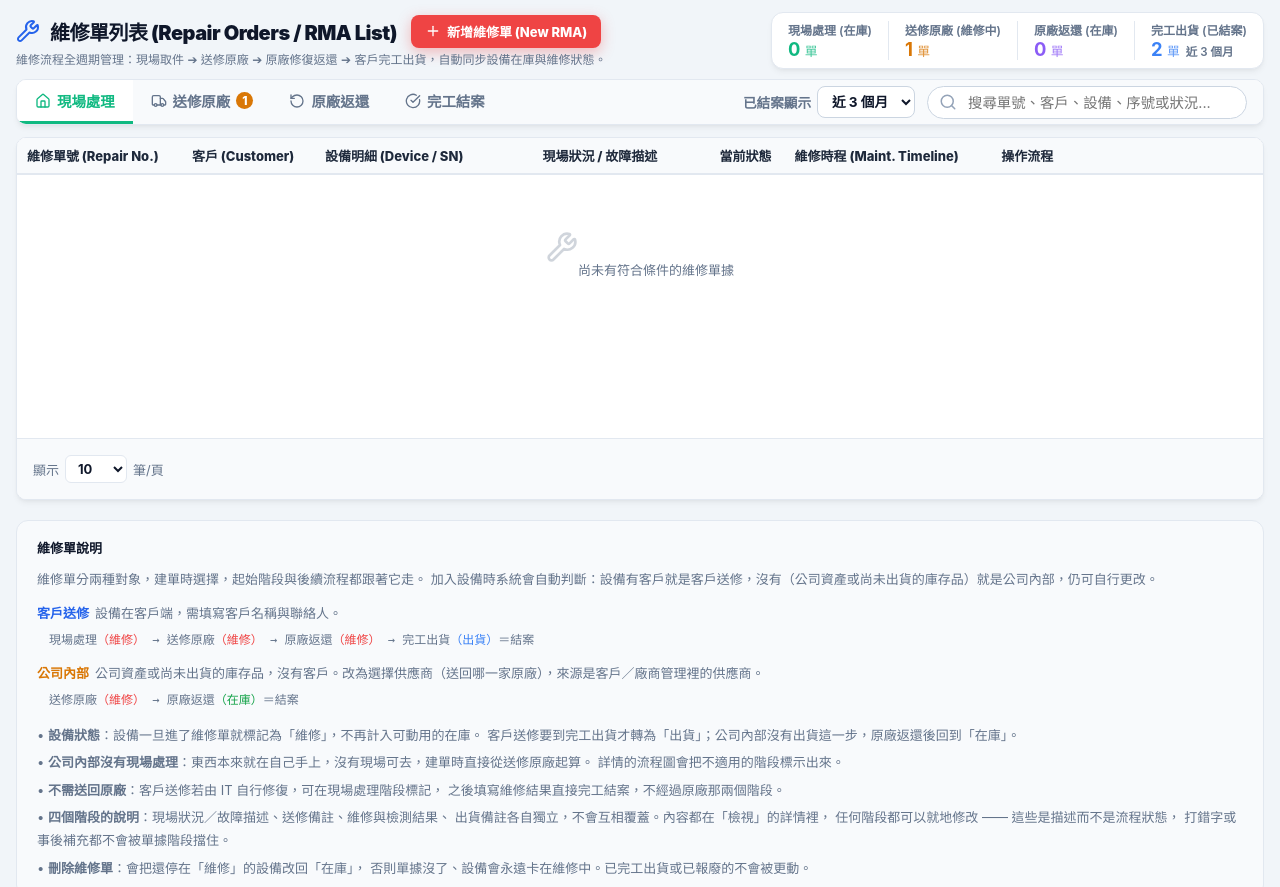
Test: 維修單列表 › 搜尋查全部歷史，不受期間限制
Expected: the text with test id "stat-1" reads "1", [905, 38, 913, 60]
Type "BC0099" into the field with placeholder "搜尋單號、客戶、設備、序號或狀況..." at [1087, 102], box [927, 86, 1247, 118]
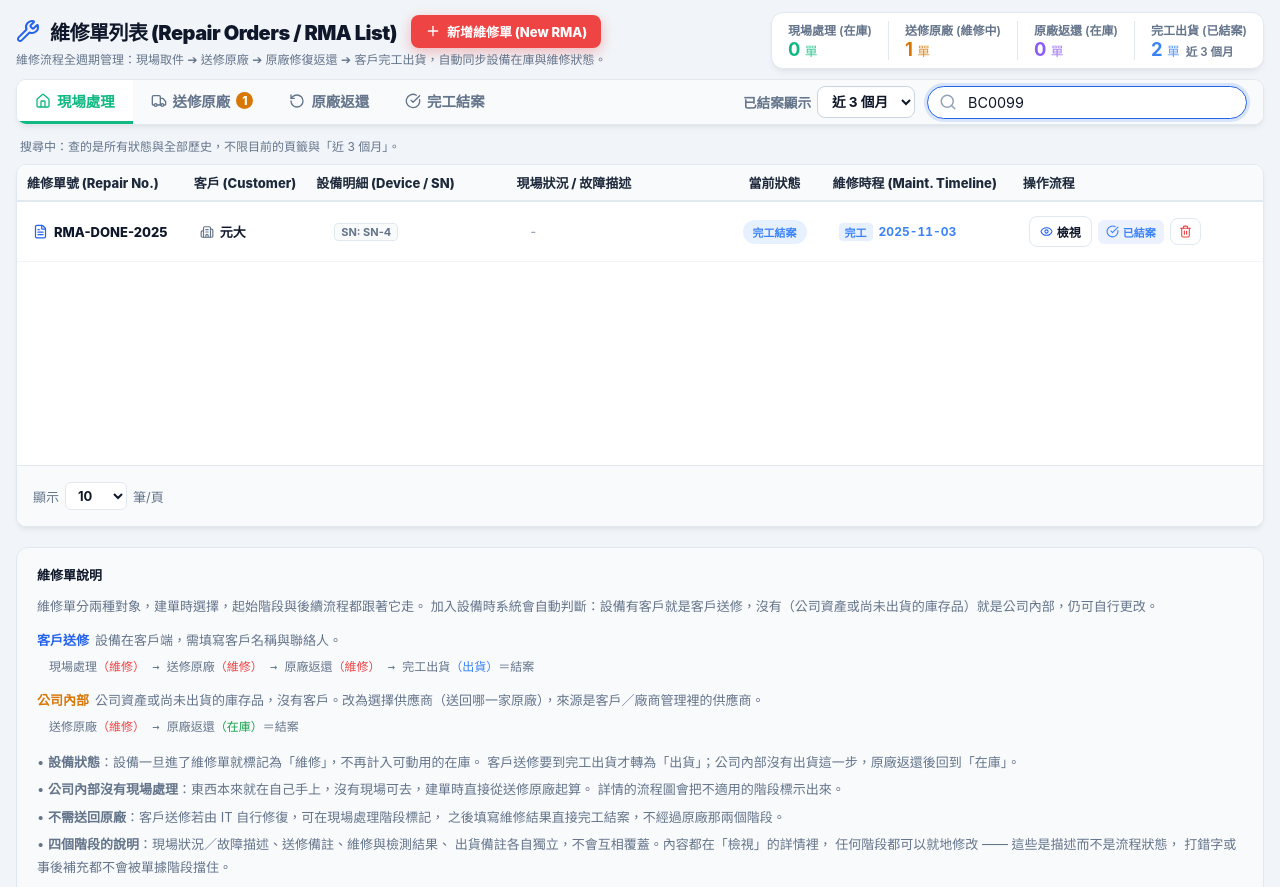
Now the text "RMA-DONE-2025" is shown, box [54, 224, 168, 240]
Now the text with test id "search-all-history-hint" is shown, box [20, 139, 400, 154]
